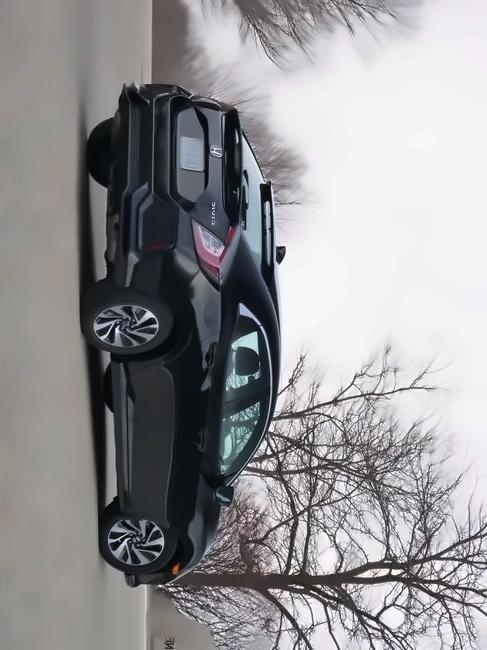Car boot: (154, 78, 246, 247)
Driver-s door - -F-R-: (121, 403, 277, 494)
Fender - -F-R-: (114, 492, 215, 568)
Fender - -R-R-: (116, 274, 265, 376)
Front bumper: (125, 567, 201, 601)
Passenger-s door - -R-R-: (124, 335, 279, 403)
Rear bumper: (109, 63, 198, 306)
Rear light - -R-: (183, 209, 248, 295)
Side bumper - -R-: (103, 347, 137, 525)
Side mirror - -R-: (212, 479, 246, 513)
